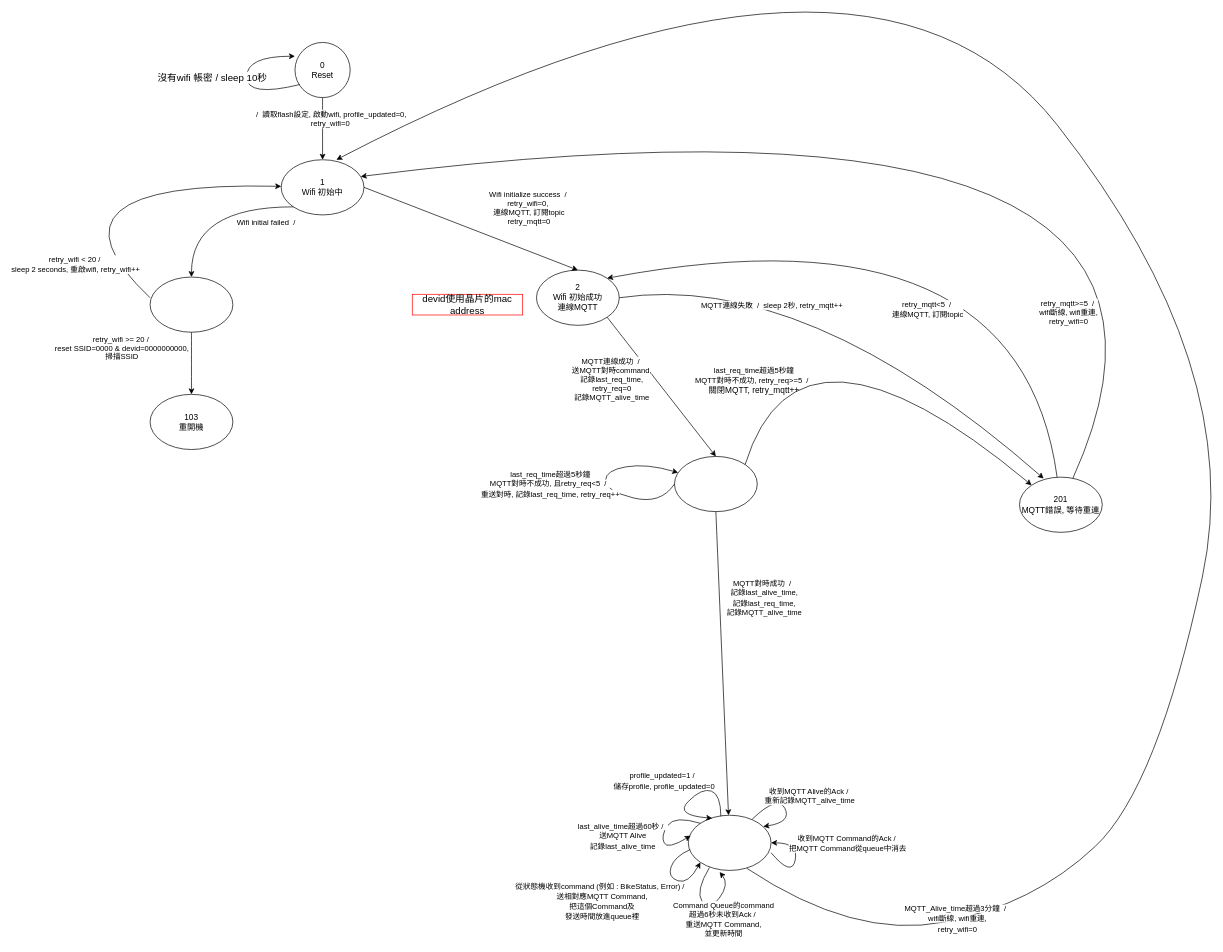
Image size: 1223x952. Some labels were removed from this diagram. Here are the shapes that lost their labels. From the top down, the centre of each, then its label:
At point 191,304: "101 Wifi 初始失敗".
At point 715,484: "3 基礎網路成功 MQTT對時中".
At point 729,842: "4 MQTT loop".
